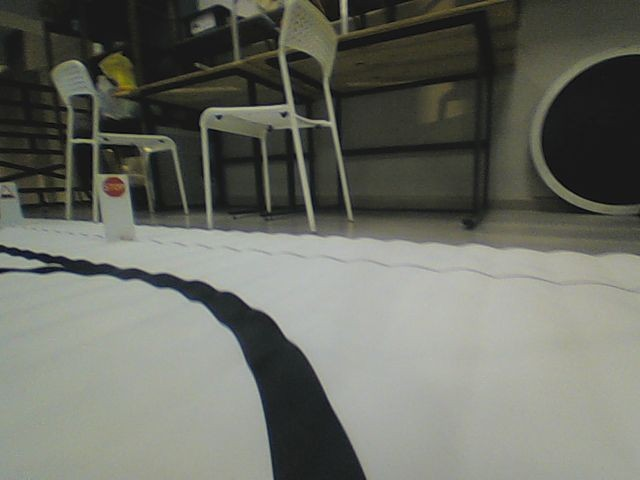Stop: (101, 176, 126, 198)
